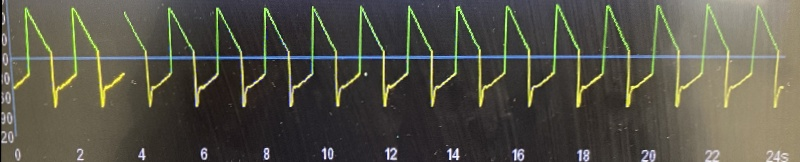peepi: (3, 0, 795, 114)
